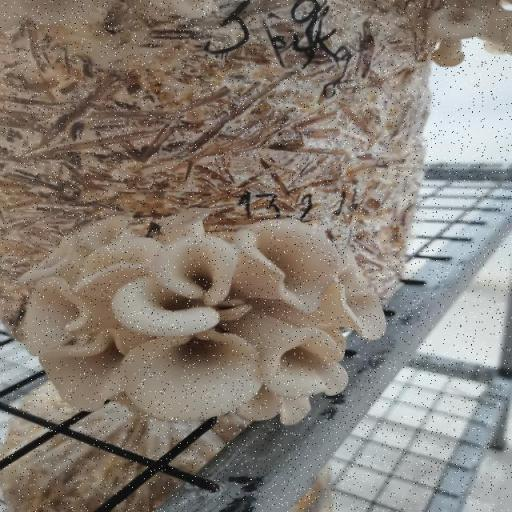White Oyster Mushroom: (0, 204, 395, 445)
